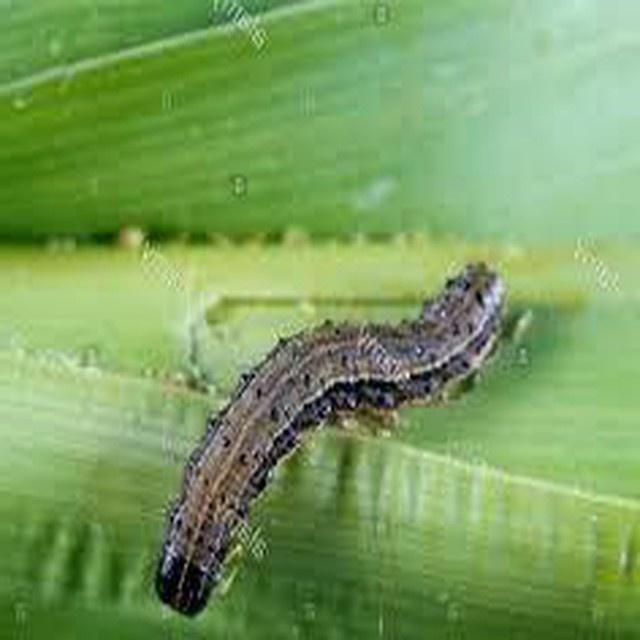gusano_cogollero: (154, 266, 514, 618)
